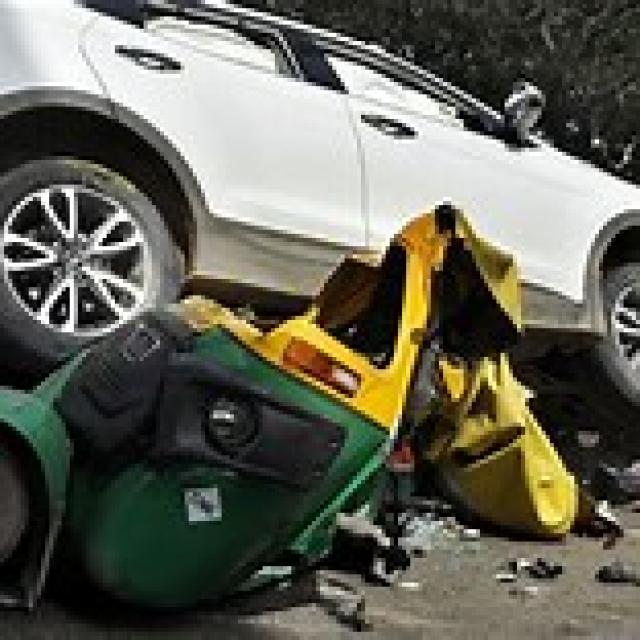Accident: (60, 62, 640, 607)
